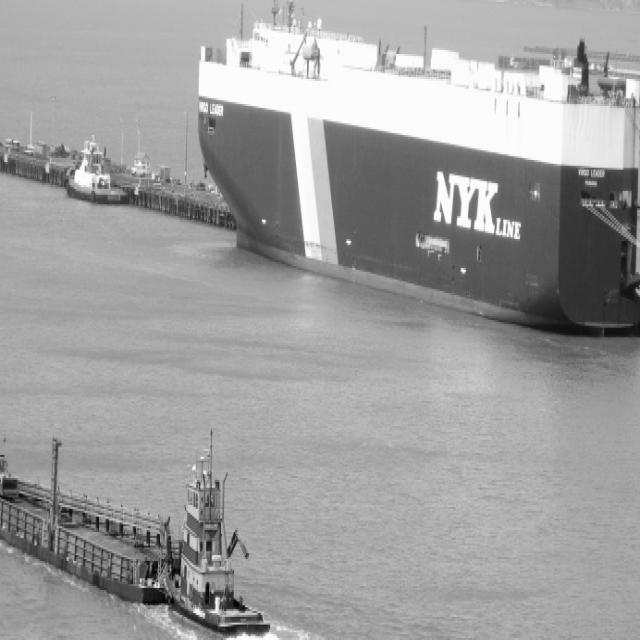tugboat: (160, 460, 274, 640), (63, 128, 134, 223)
